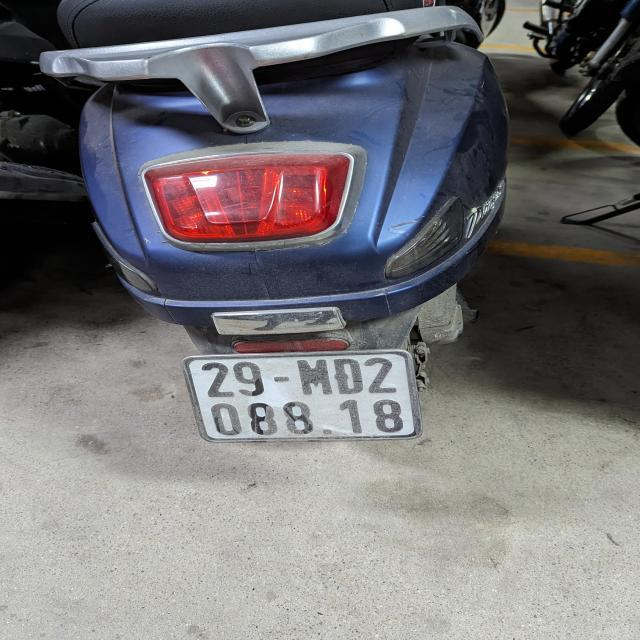license: (182, 348, 422, 442)
